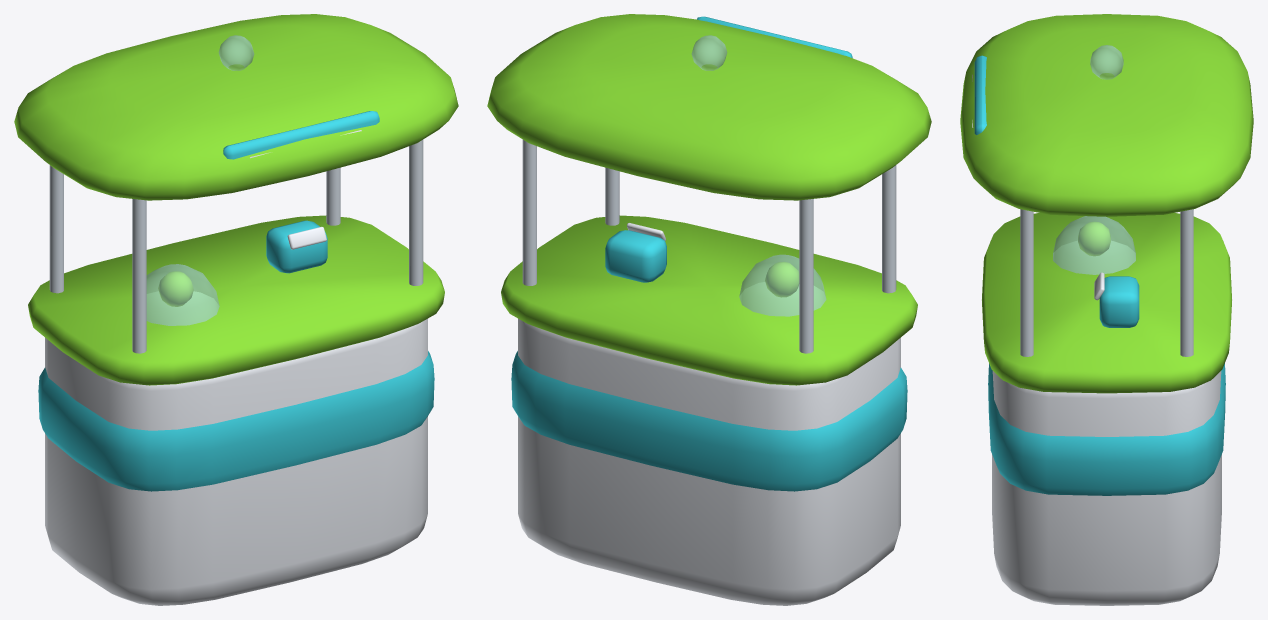
File: ShopKiosk.fbx
3 renders of one model, left to right at view 1: azimuth 30°, elevation 25°; view 2: azimuth 150°, elevation 25°; view 3: azimuth 270°, elevation 25°, orthographic. The views are drawn at different scales.
Visible parts, largest first — view 1: ShopKiosk; view 2: ShopKiosk; view 3: ShopKiosk.
Part boxes in pixels (x1=…): ShopKiosk: x1=14, y1=14, x2=458, y2=605; ShopKiosk: x1=487, y1=14, x2=931, y2=605; ShopKiosk: x1=960, y1=14, x2=1253, y2=605.
Bounding box in the file's own units: 1.72 × 2.17 × 1.18.
